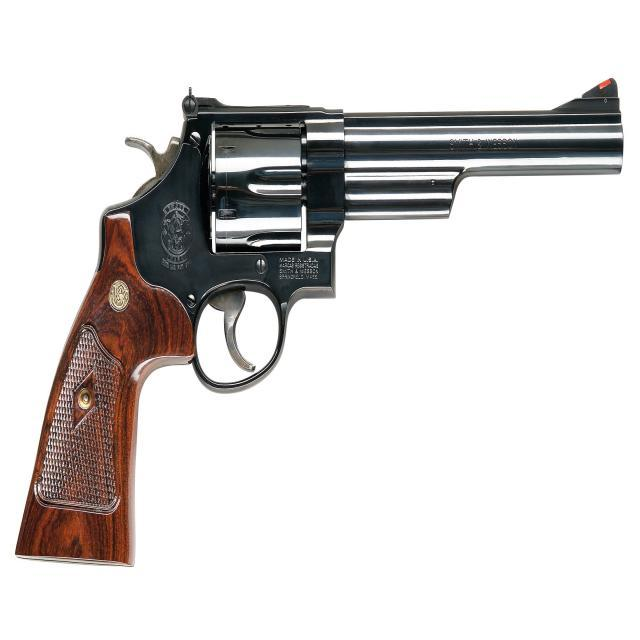pistol: (11, 66, 640, 567)
